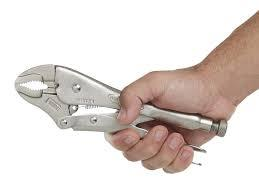pliers: (13, 62, 116, 131)
